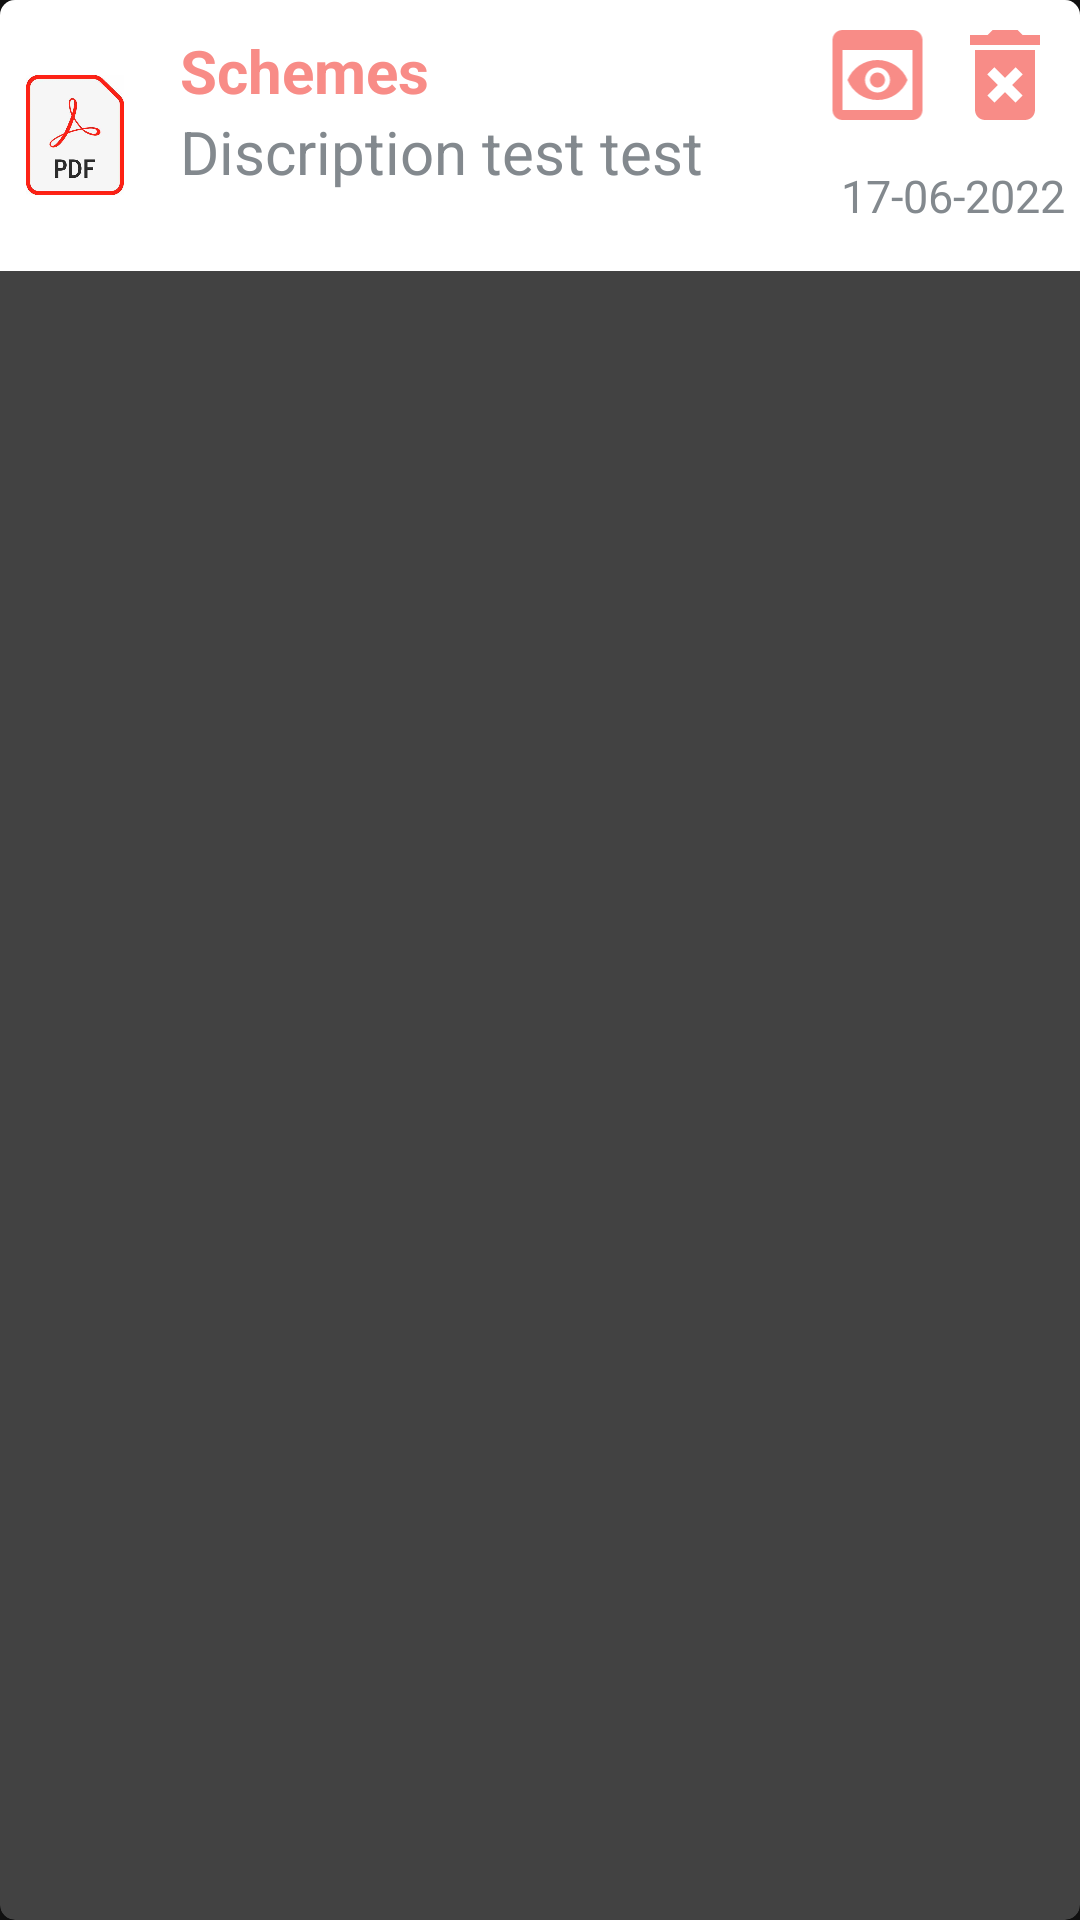

Icons on this 1080px×1920px Android screen, each with the point to tap as (x,y):
delete forever: (1005,75)
